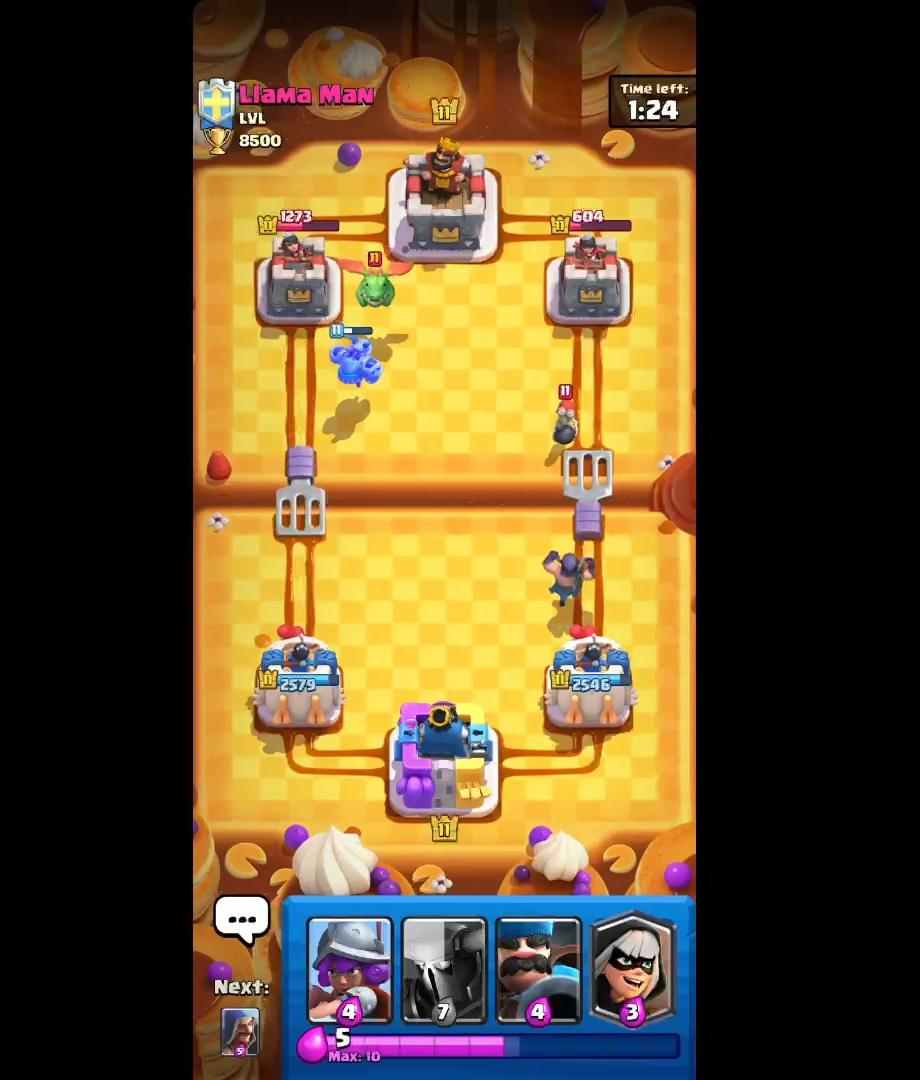Baby Dragon: (336, 247, 418, 313)
Bomber: (551, 384, 588, 448)
